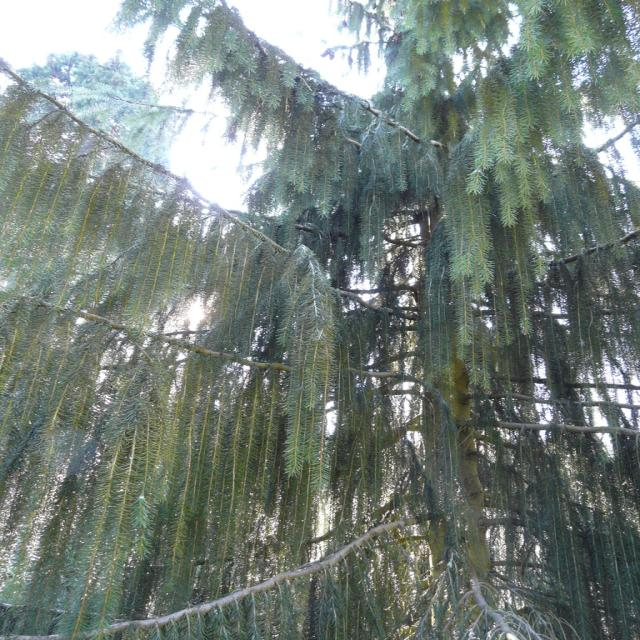Picea breweriana: (71, 9, 637, 640)
